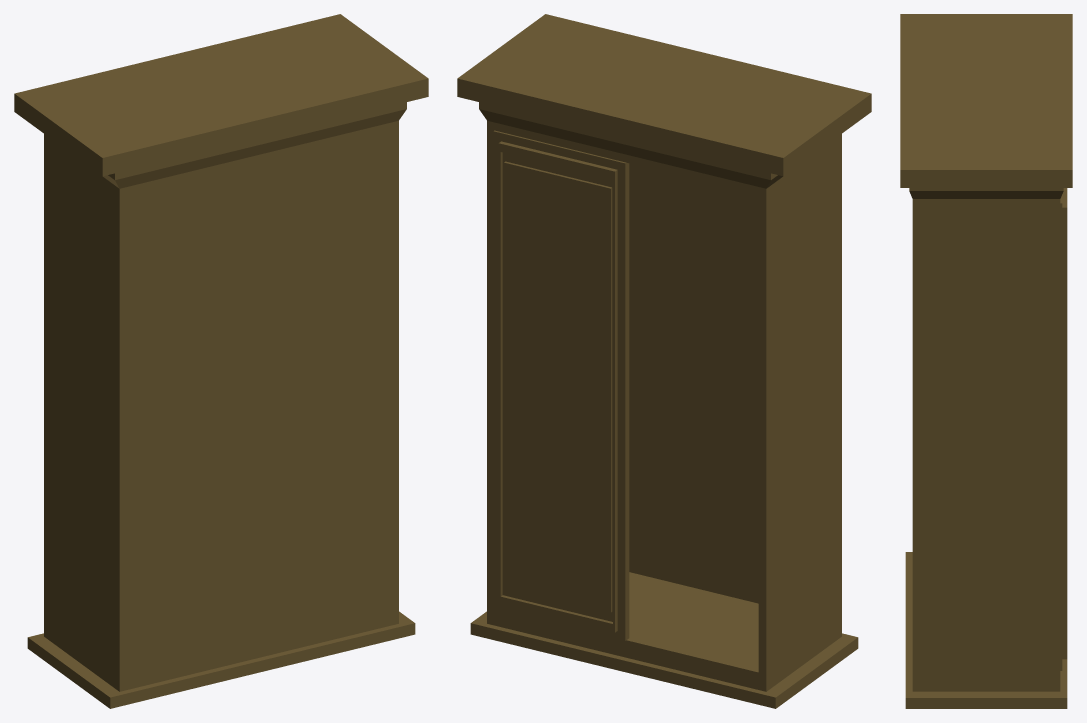
Rendered from dulap fara usa.fbx.
The picture shows the model from 3 angles, left to right: view 1: azimuth 30°, elevation 25°; view 2: azimuth 150°, elevation 25°; view 3: azimuth 270°, elevation 25°; orthographic projection. The views are drawn at different scales.
Visible parts, largest first — view 1: Cube.077; view 2: Cube.077; view 3: Cube.077.
Part boxes in pixels (x1=…): Cube.077: x1=14, y1=14, x2=428, y2=708; Cube.077: x1=457, y1=14, x2=871, y2=708; Cube.077: x1=900, y1=14, x2=1072, y2=708.
Size of the model in its own units: 163 by 266 by 76.34.
